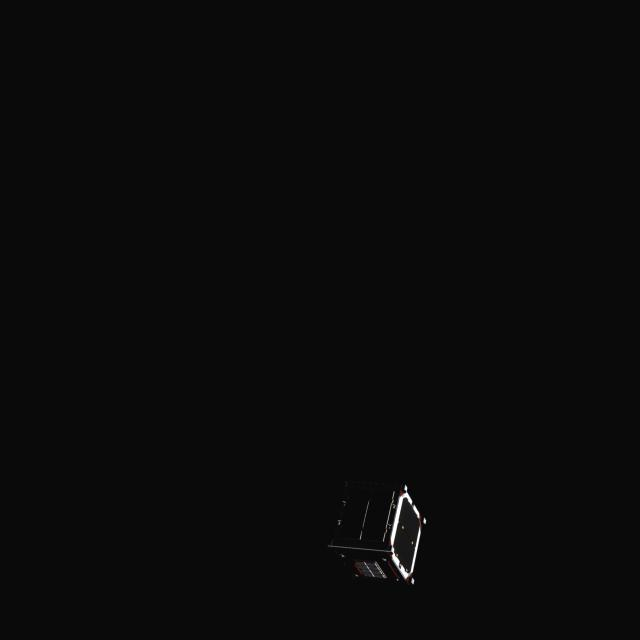medium_debris: (329, 472, 428, 592)
